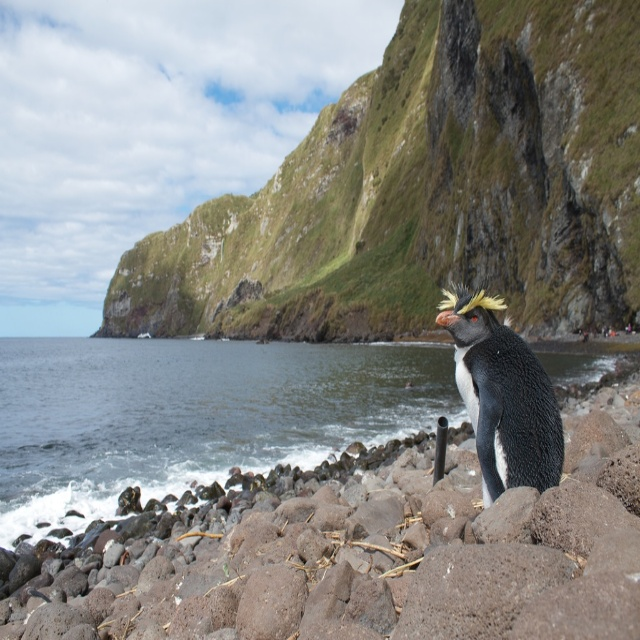Penguin: (436, 281, 564, 521)
